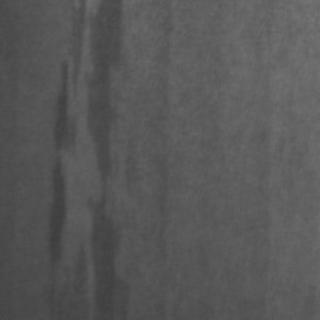inclusion: (42, 0, 130, 316)
